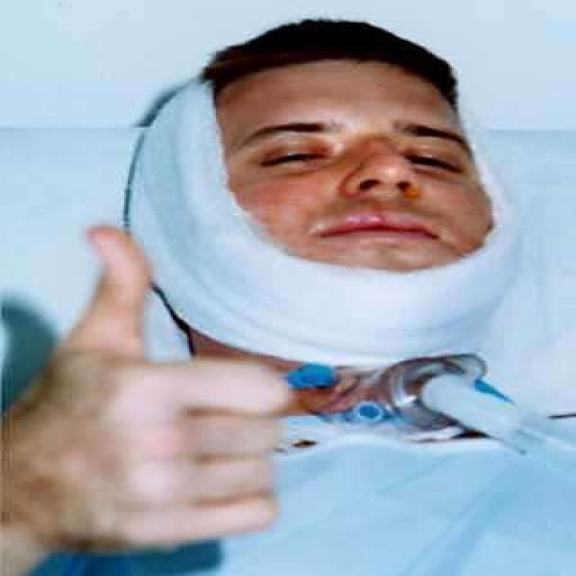face: (216, 60, 504, 286)
